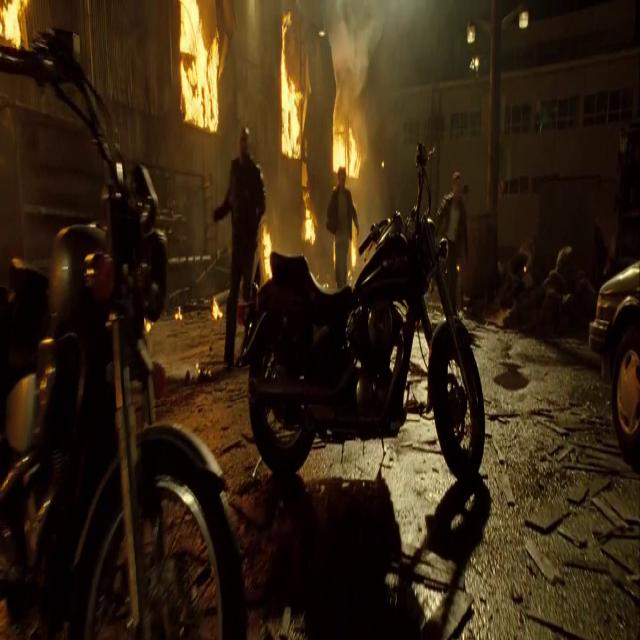Motorbike: (223, 209, 504, 540), (8, 188, 214, 625)
